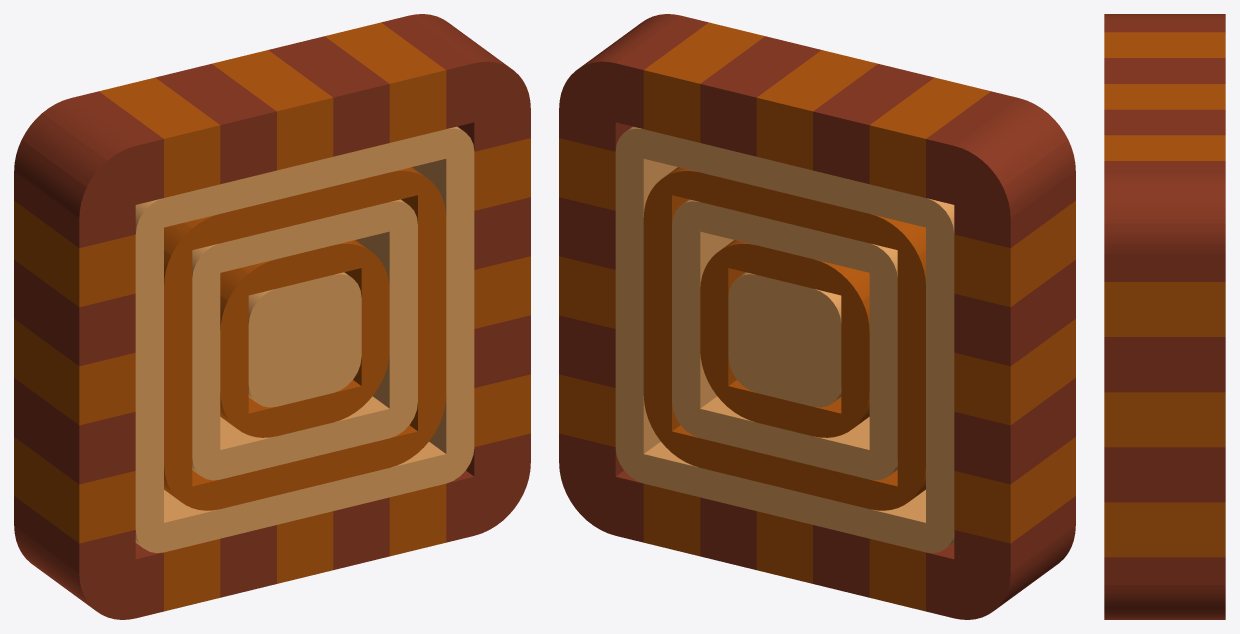
The model's file is TreeTrunk.glb.
3 renders of one model, left to right at view 1: azimuth 30°, elevation 25°; view 2: azimuth 150°, elevation 25°; view 3: azimuth 270°, elevation 25°, orthographic. The views are drawn at different scales.
Visible parts, largest first — view 1: generated(Clone); view 2: generated(Clone); view 3: generated(Clone).
Part boxes in pixels (left/top/right/bottom): generated(Clone): left=14, top=14, right=530, bottom=619; generated(Clone): left=559, top=14, right=1075, bottom=619; generated(Clone): left=1104, top=14, right=1225, bottom=619.
Size of the model in its own units: 16 by 16 by 4.
